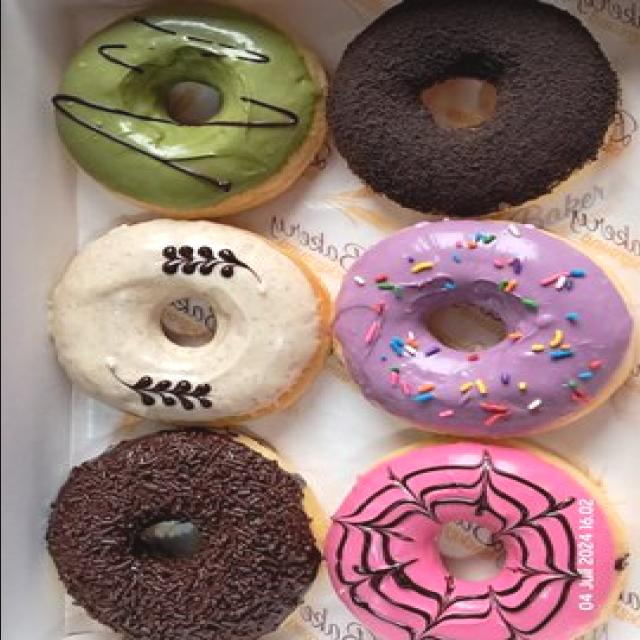donat: (332, 220, 640, 439), (327, 0, 623, 219), (47, 219, 346, 427), (325, 439, 628, 640), (45, 427, 325, 640), (52, 0, 329, 215)
